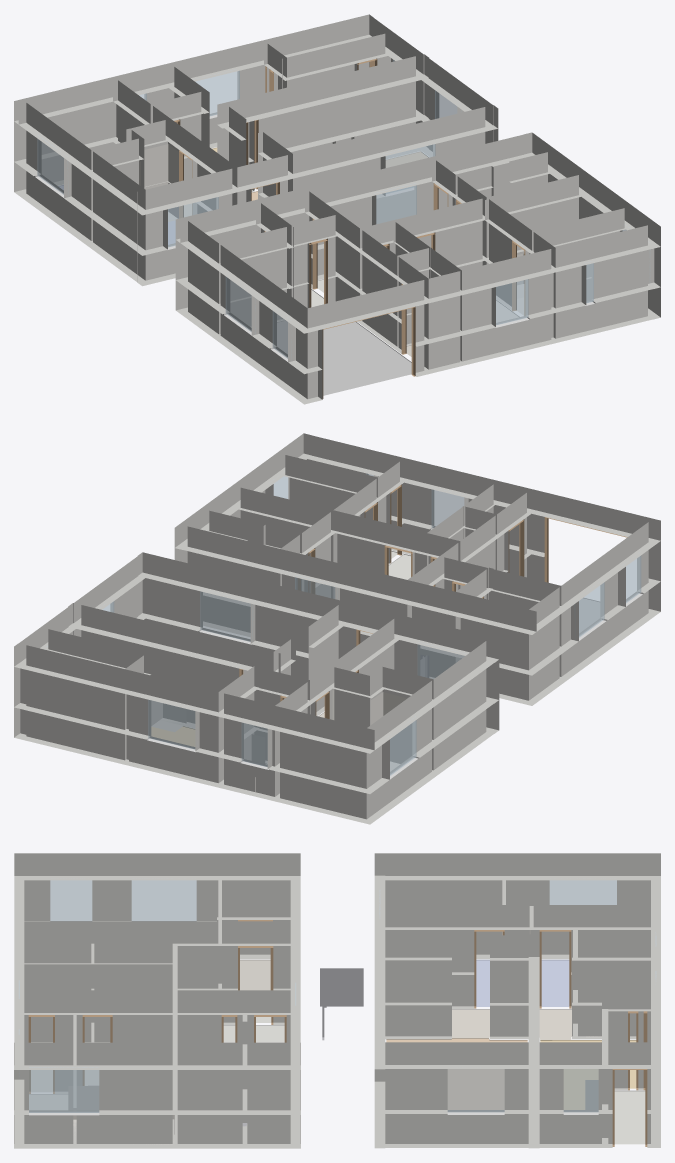
3 views of the same model, one above another, from view 1: azimuth 30°, elevation 25°; view 2: azimuth 150°, elevation 25°; view 3: azimuth 270°, elevation 25° (orthographic). The views are drawn at different scales.
Parts seen in each view (by area): view 1: walls, floor_12_Garage, furniture_1_closet, window_0, window_12, window_2, window_4, window_24, window_3, window_6, window_20, door_9; view 2: walls, window_6, window_2, furniture_0_closet, window_5, window_3, window_4, window_24, furniture_3_appliance, window_0, window_20, floor_2_Kitchen; view 3: walls, window_16, floor_4_Living_Room, window_24, window_21, floor_3_Entry, railings, window_20, floor_5_Undefined, window_4, window_23, floor_0_Bed_Room (+9 smaller).
Part boxes in pixels (x1,y1,x2,y2): walls: (14, 14, 660, 404); floor_12_Garage: (277, 320, 411, 395); furniture_1_closet: (144, 144, 178, 221); window_0: (496, 279, 528, 325); window_12: (374, 183, 416, 223); window_2: (193, 69, 239, 116); window_4: (37, 135, 67, 194); window_24: (225, 277, 255, 333); window_3: (168, 197, 218, 247); window_6: (383, 144, 435, 193); window_20: (272, 311, 291, 358); door_9: (322, 306, 415, 398); walls: (14, 433, 660, 824); window_6: (200, 591, 250, 641); window_2: (148, 700, 195, 749); furniture_0_closet: (370, 692, 411, 771); window_5: (241, 722, 267, 766); window_3: (417, 643, 464, 679); window_4: (388, 716, 416, 775); window_24: (574, 582, 604, 637); furniture_3_appliance: (151, 700, 186, 731); window_0: (431, 489, 464, 527); window_20: (623, 556, 641, 603); floor_2_Kitchen: (151, 726, 194, 746); walls: (14, 853, 660, 1148); window_16: (29, 1067, 99, 1112); floor_4_Living_Room: (386, 1038, 527, 1109); window_24: (131, 880, 196, 921); window_21: (447, 1069, 504, 1112); floor_3_Entry: (452, 1009, 571, 1039); railings: (242, 968, 363, 1126); window_20: (50, 880, 92, 921); floor_5_Undefined: (614, 1090, 645, 1144); window_4: (549, 880, 616, 904); window_23: (563, 1069, 598, 1112); floor_0_Bed_Room: (541, 959, 569, 1006).
Size of the model in its own units: 11.08 by 2.72 by 15.62.
